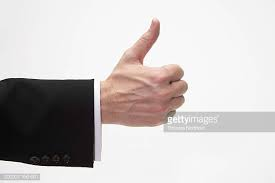thumbs_up: (2, 5, 196, 144)
